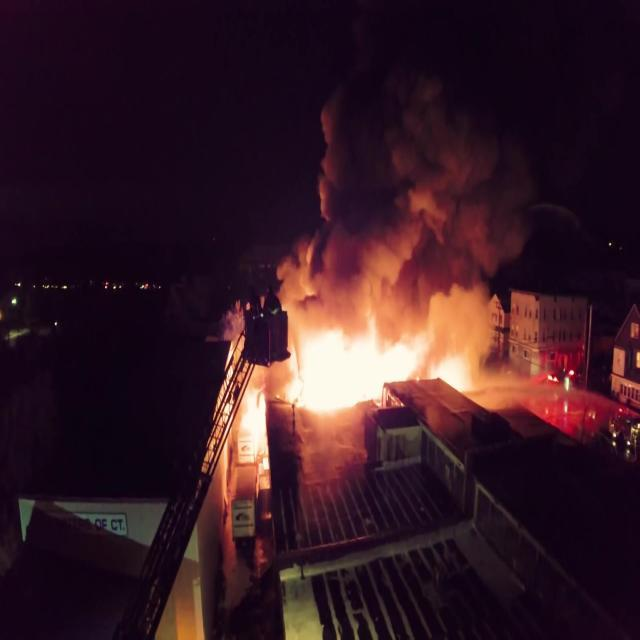Fire: (292, 316, 472, 430)
Smoke: (284, 0, 548, 331)
